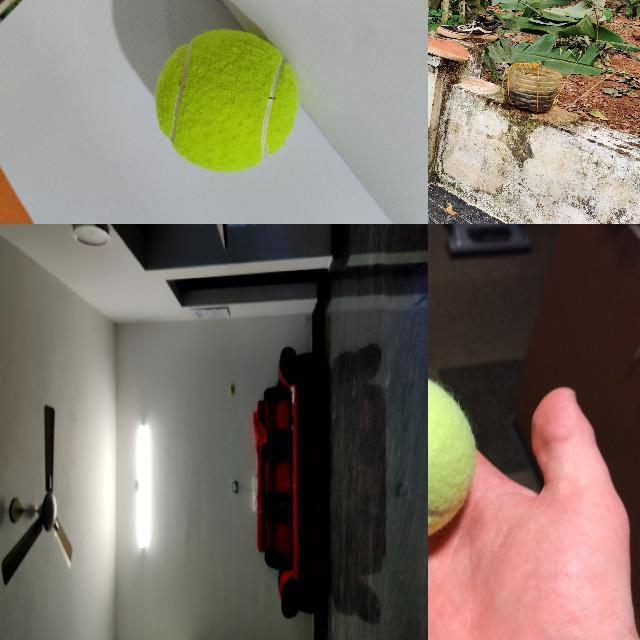tennis-ball: (153, 27, 299, 173), (428, 370, 478, 549), (229, 382, 236, 395)
